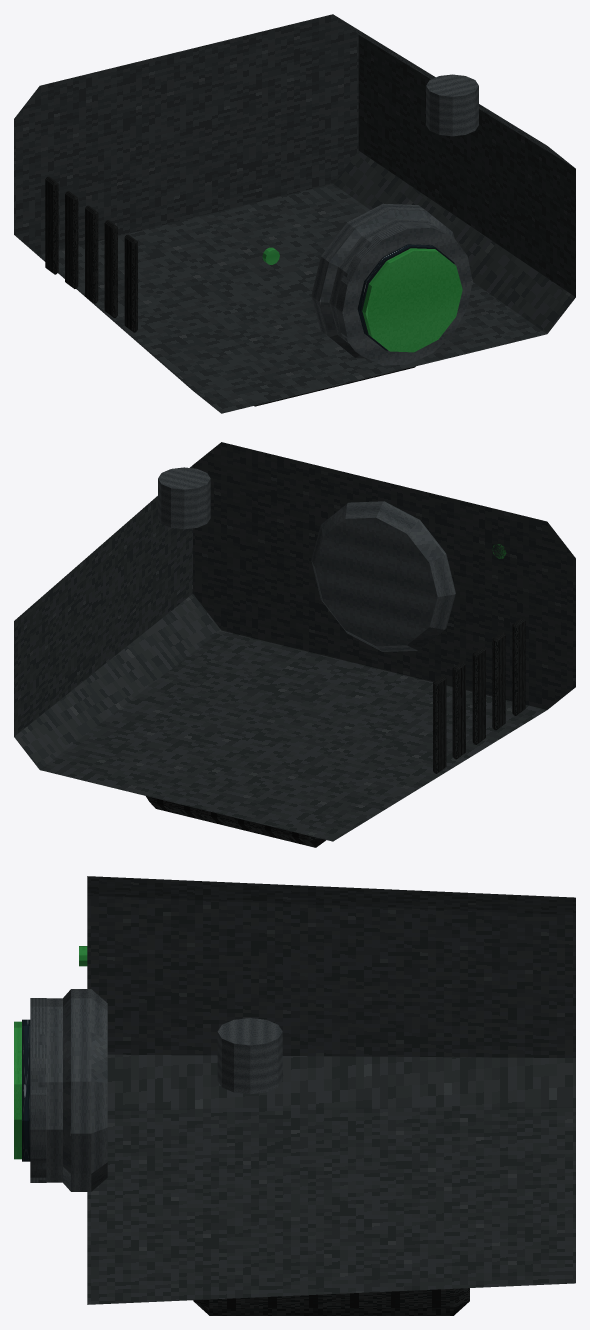
File: blender_dots_projector_3.glb
3 renders of one model, top to bottom at view 1: azimuth 30°, elevation 25°; view 2: azimuth 150°, elevation 25°; view 3: azimuth 270°, elevation 25°, orthographic. The views are drawn at different scales.
Visible parts, largest first — view 1: blender_dots_projector_3; view 2: blender_dots_projector_3; view 3: blender_dots_projector_3.
Boxes of the visible parts, x1,y1,x2,y2 form: blender_dots_projector_3: (14,14,575,413); blender_dots_projector_3: (14,442,575,847); blender_dots_projector_3: (14,876,575,1315).
Bounding box in the file's own units: 0.1358 × 0.0858 × 0.138.
5 materials, 5 textured.
